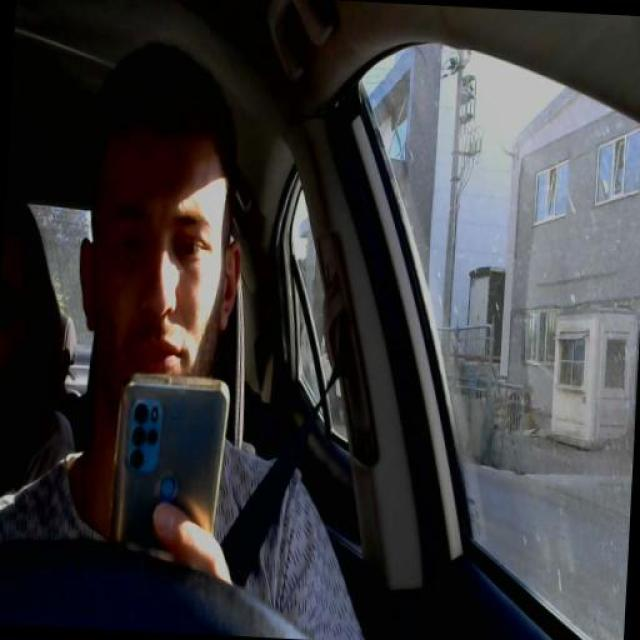phone: (112, 370, 223, 565)
